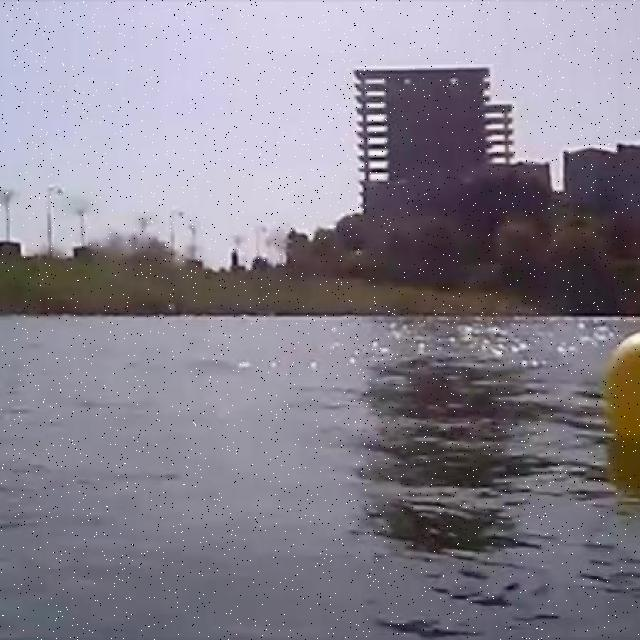buoy: (605, 325, 639, 439)
